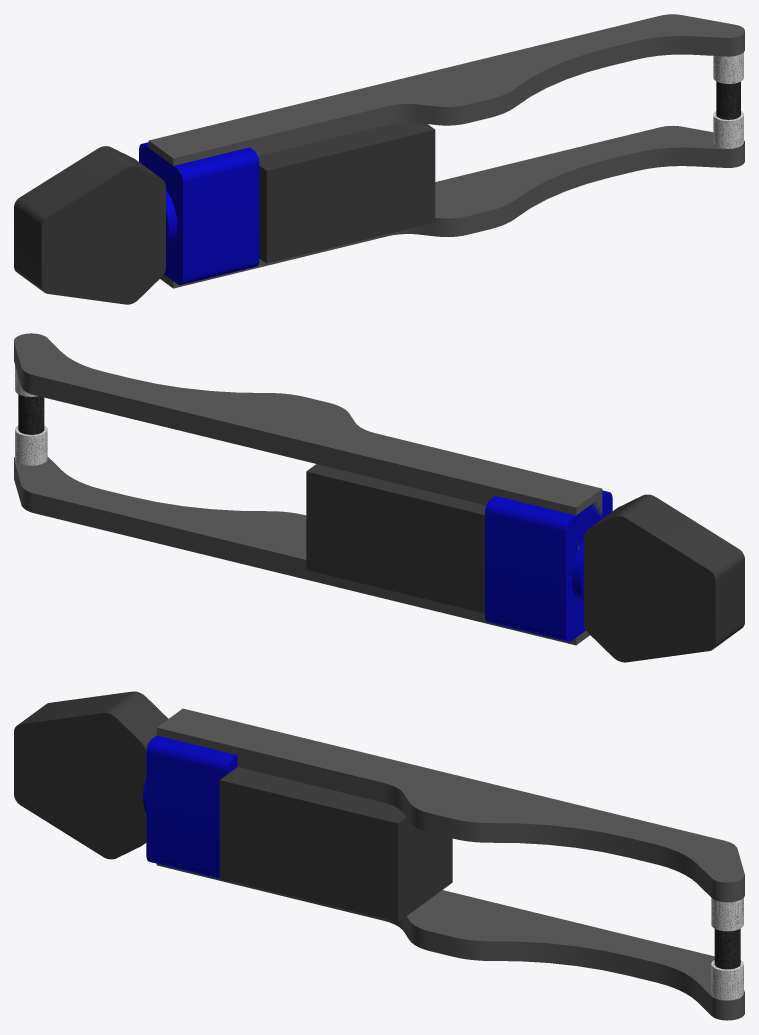
The model's file is forearm.dae.
3 renders of one model, top to bottom at view 1: azimuth 30°, elevation 25°; view 2: azimuth 150°, elevation 25°; view 3: azimuth 330°, elevation 25°, orthographic. The views are drawn at different scales.
Parts seen in each view (by area): view 1: SketchUp (×4), GROUP_3, GROUP_4, GROUP_2 (×2); view 2: SketchUp (×3), GROUP_4, GROUP_3, GROUP_2 (×2); view 3: SketchUp (×4), GROUP_3, GROUP_4, GROUP_2.
Part boxes in pixels (box(x1,y1,x2,y2)): SketchUp (×4): box(148, 14, 744, 288); GROUP_3: box(258, 122, 435, 263); GROUP_4: box(14, 146, 165, 304); GROUP_2 (×2): box(139, 142, 259, 285); SketchUp (×3): box(14, 333, 602, 645); GROUP_4: box(584, 494, 744, 662); GROUP_3: box(306, 464, 486, 613); GROUP_2 (×2): box(485, 490, 612, 641); SketchUp (×4): box(156, 708, 744, 1020); GROUP_3: box(219, 767, 452, 921); GROUP_4: box(14, 691, 168, 859); GROUP_2: box(146, 735, 237, 881).
Bounding box in the file's own units: 15.39 × 2.03 × 2.91.
